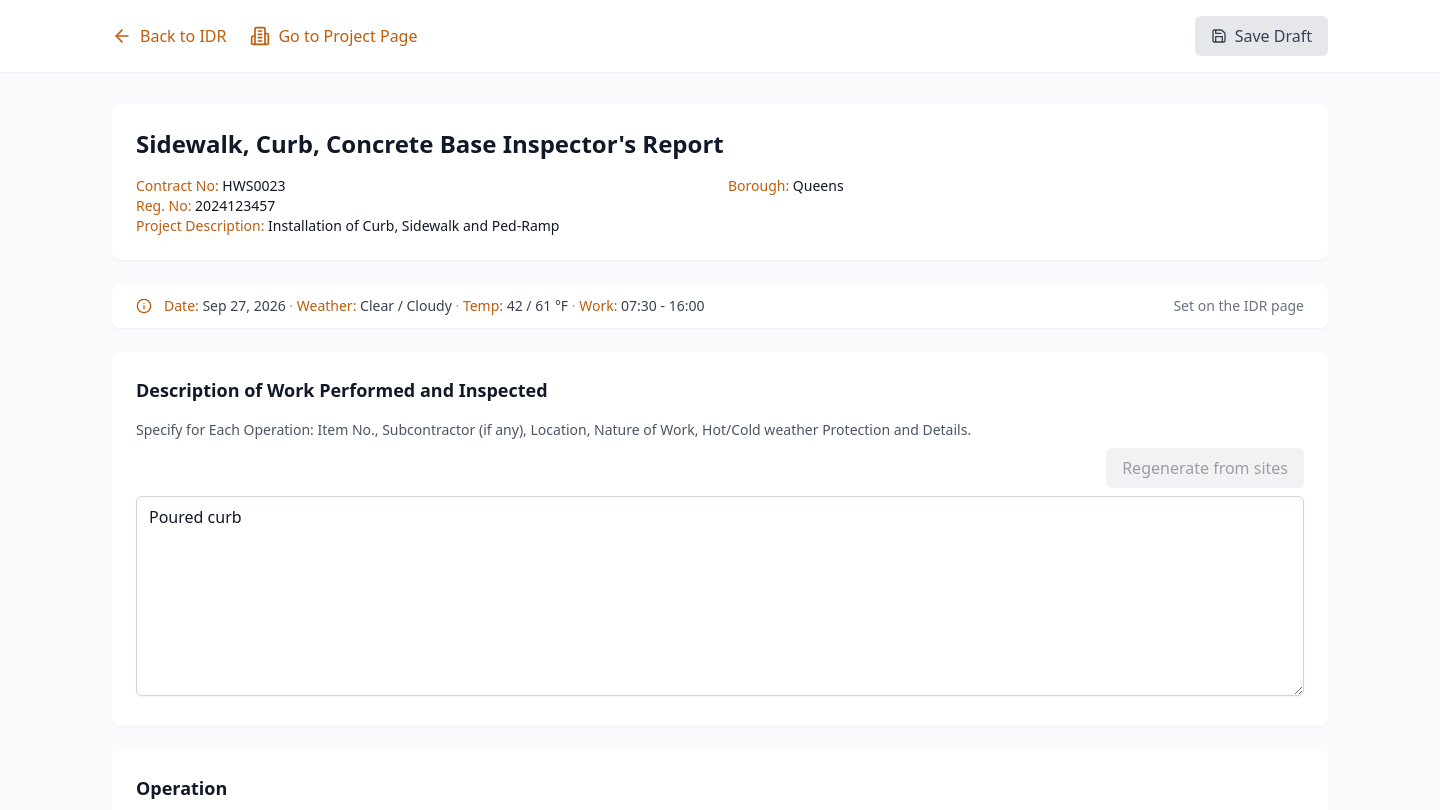
it: SWCBReportPage — sections › Add addendum creates nothing when saving the SWCB edits fails
Type " - day 2" into the text box showing "Poured curb". click: [720, 596]
box: [136, 496, 1304, 696]
(page scrolled)
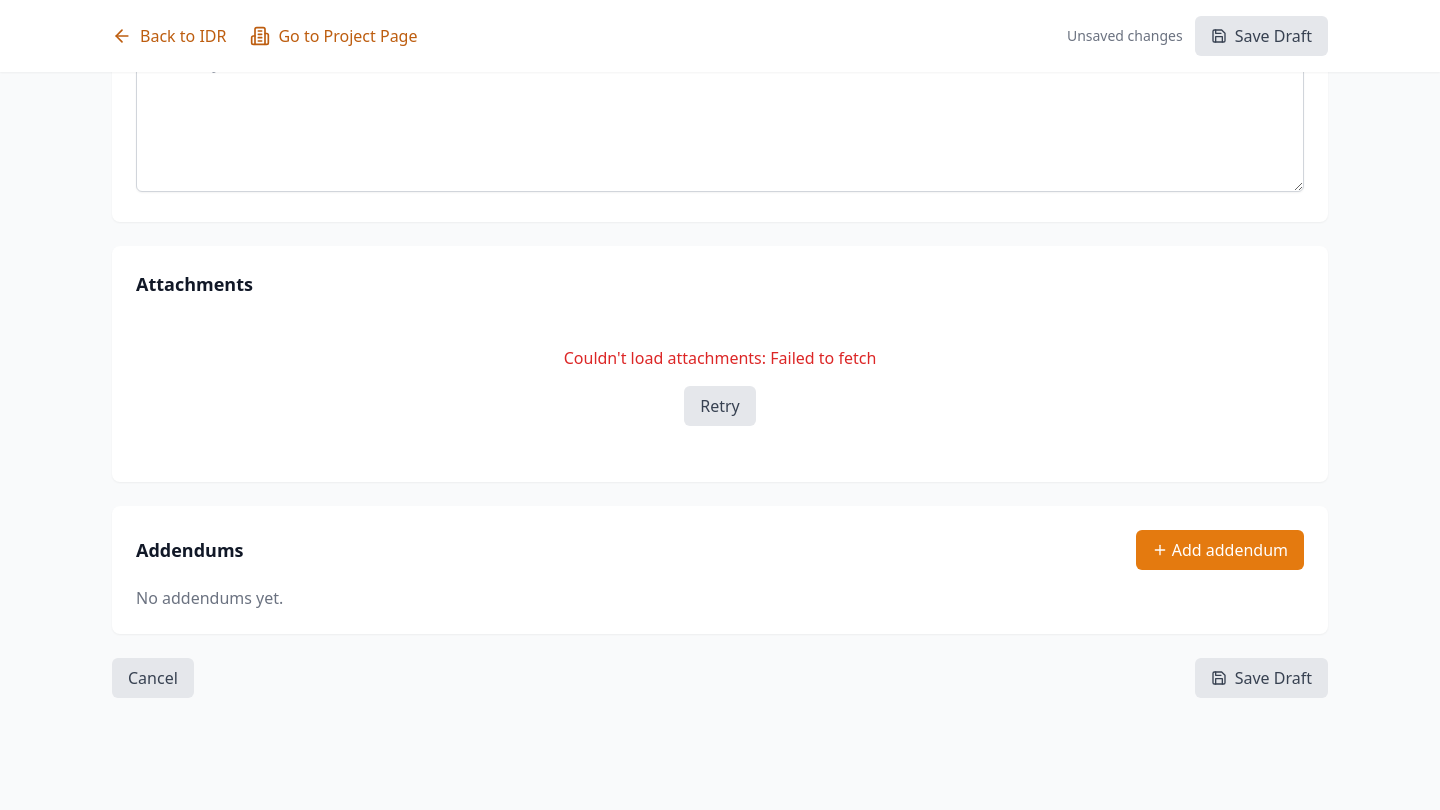
Click the button "Add addendum". click: [1220, 550]
box: [1136, 530, 1304, 570]
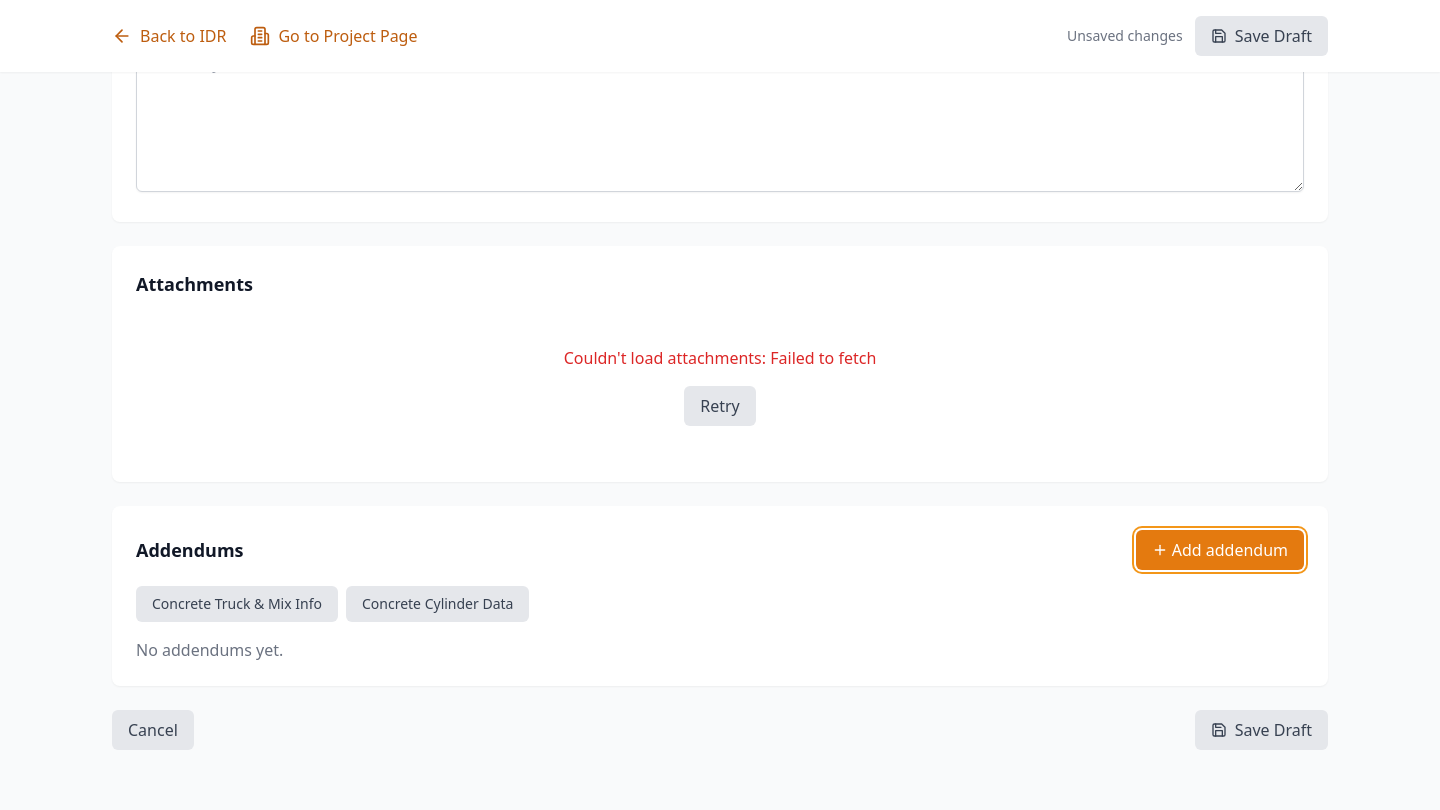
Click the button "Concrete Truck & Mix Info". click: [237, 604]
box: [136, 586, 338, 622]
(page scrolled)
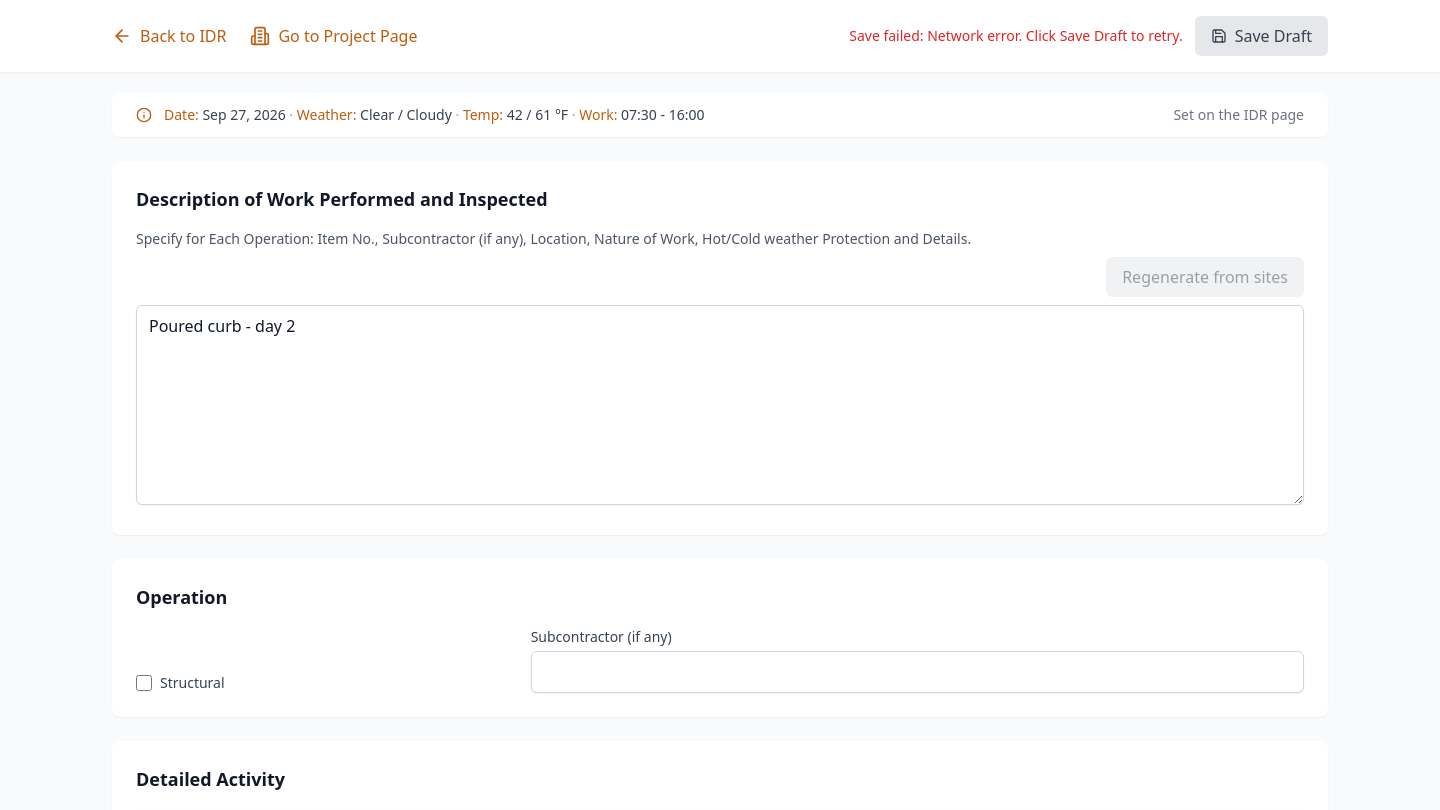
expect the text box with placeholder "Enter detailed description of work performed..." holds "Poured curb - day 2": met, box [136, 305, 1304, 505]
expect the text "Save failed: Network error. Click Save Draft to retry." is shown: met, box [849, 26, 1183, 46]
